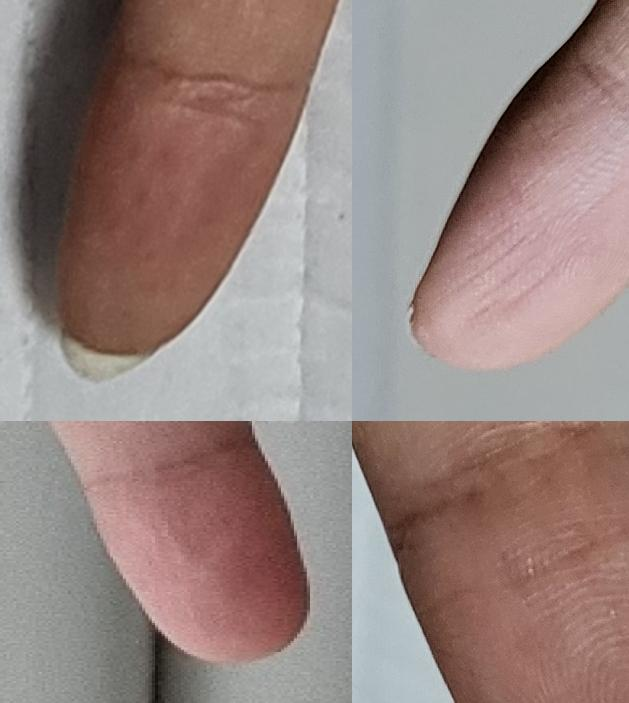Fingerprints: (56, 52, 311, 358), (411, 76, 629, 372), (395, 448, 629, 703), (85, 443, 309, 664)
